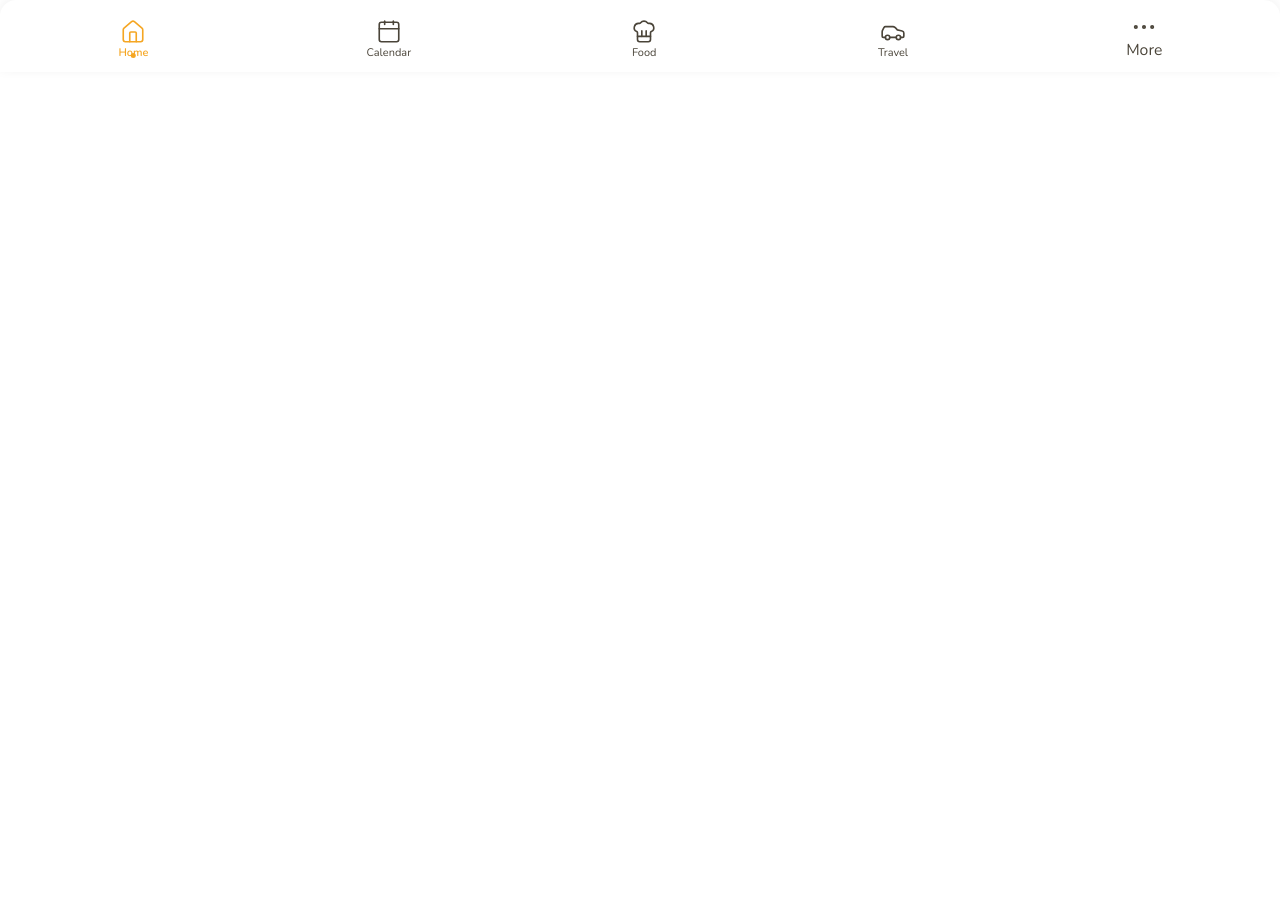
it: NavBar — portrait hamburger layout › closes sheet when an overflow mode is clicked
Click the button with aria-label "more navigation options" at (1144, 36), box [1117,4,1171,68]
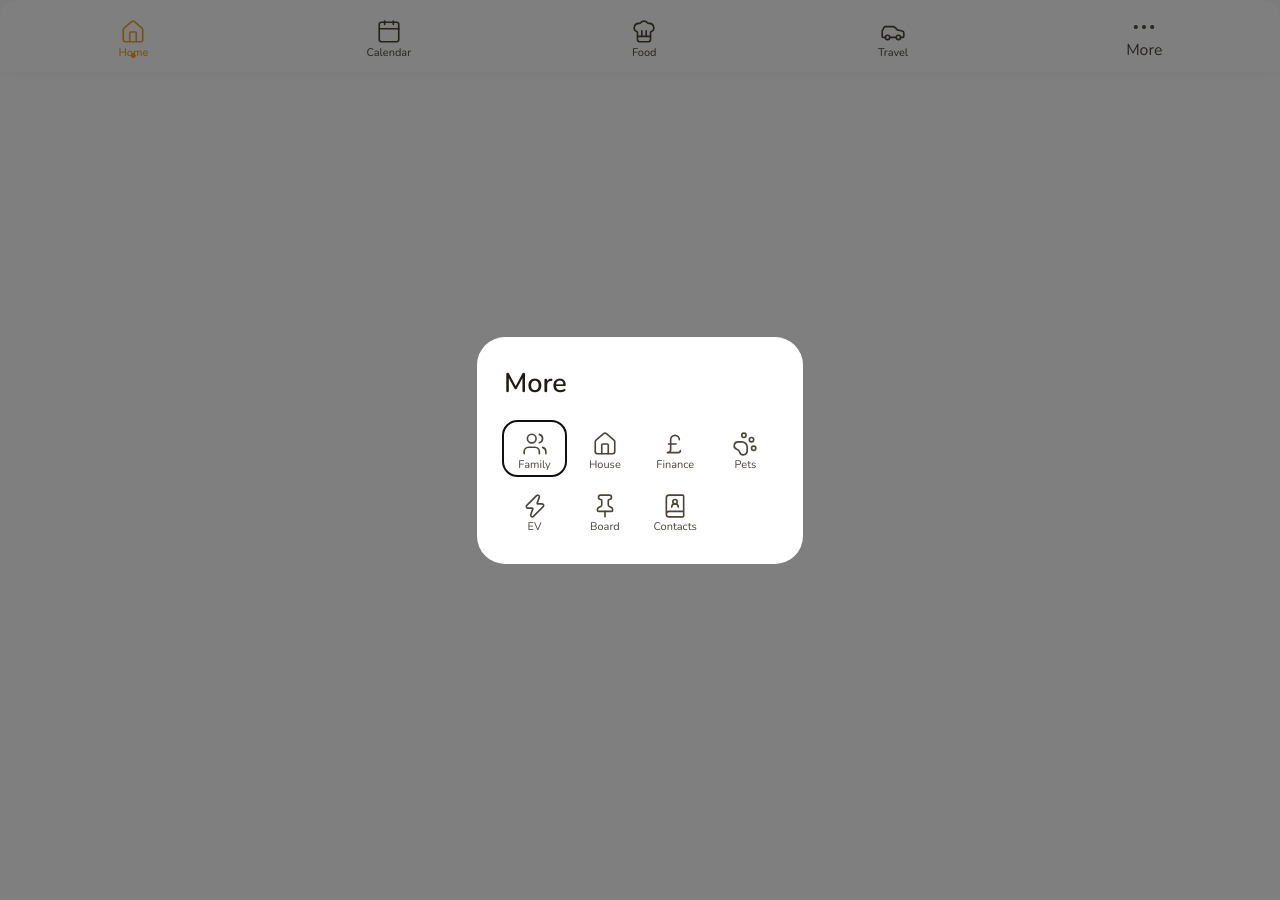
Check: the dialog is shown, box [477,336,803,564]
Click the link "Family" at (534, 452), box [518,431,551,472]
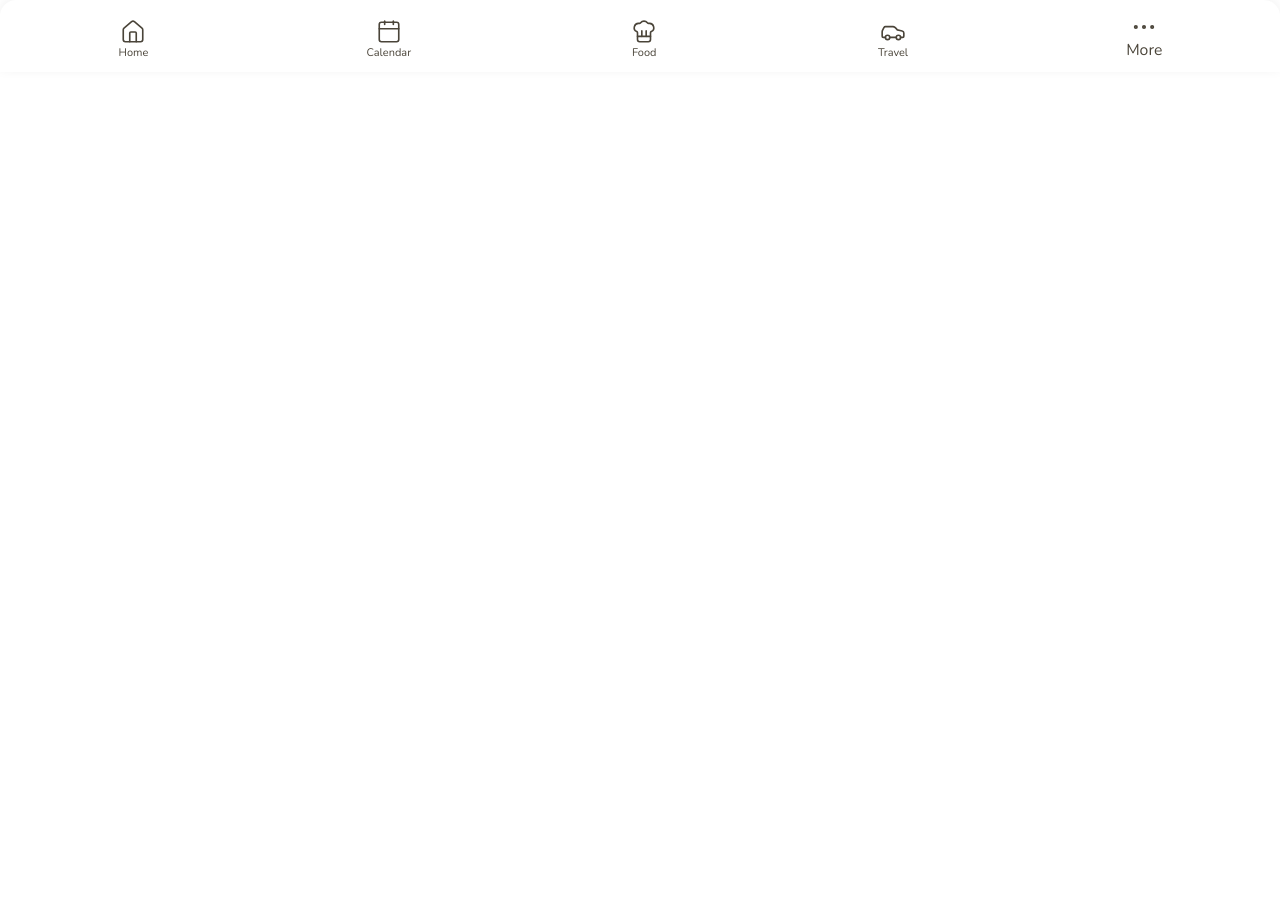
Check: the dialog is gone
